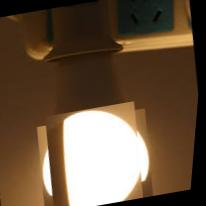TubeLight: (37, 104, 157, 206)
